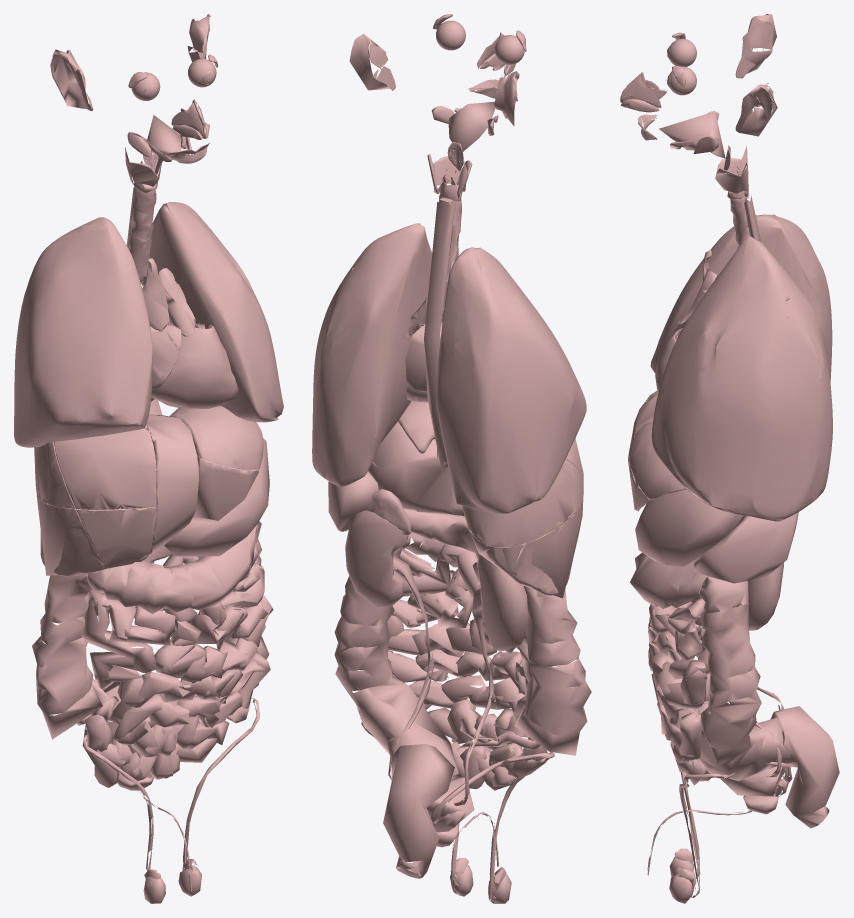
The model's file is cuerpo-organo.glb.
3 renders of one model, left to right at view 1: azimuth 30°, elevation 25°; view 2: azimuth 150°, elevation 25°; view 3: azimuth 270°, elevation 25°, orthographic. The views are drawn at different scales.
Visible parts, largest first — view 1: higado, pulmon_derecho_contorno_aproximado_ilustracion, ileon, pulmon_izquierdo_contorno_aproximado_ilustracion, yeyuno, colon_ascendente, colon_transverso, ventriculos_del_corazon, estomago, timo, oreja, traquea (+9 smaller); view 2: pulmon_derecho_contorno_aproximado_ilustracion, pulmon_izquierdo_contorno_aproximado_ilustracion, ileon, higado, colon_descendente, colon_ascendente, yeyuno, recto, estomago, rinon_izquierdo, esofago, rinon_derecho (+17 smaller); view 3: pulmon_izquierdo_contorno_aproximado_ilustracion, colon_descendente, pulmon_derecho_contorno_aproximado_ilustracion, estomago, yeyuno, recto, bazo, higado, oreja, ileon, colon_transverso, rinon_izquierdo (+12 smaller).
Boxes of the visible parts, x1,y1,x2,y2 form: higado: (34, 406, 263, 576); pulmon_derecho_contorno_aproximado_ilustracion: (14, 217, 152, 447); ileon: (85, 651, 270, 781); pulmon_izquierdo_contorno_aproximado_ilustracion: (144, 202, 283, 422); yeyuno: (79, 546, 273, 683); colon_ascendente: (32, 573, 102, 739); colon_transverso: (87, 525, 257, 614); ventriculos_del_corazon: (151, 319, 238, 408); estomago: (164, 438, 269, 556); timo: (142, 258, 195, 337); oreja: (50, 14, 210, 110); traquea: (128, 184, 156, 282); pulmon_derecho_contorno_aproximado_ilustracion: (436, 247, 586, 513); pulmon_izquierdo_contorno_aproximado_ilustracion: (312, 223, 432, 486); ileon: (388, 641, 547, 790); higado: (397, 401, 583, 598); colon_descendente: (334, 546, 458, 777); colon_ascendente: (514, 586, 591, 755); yeyuno: (387, 549, 527, 657); recto: (383, 744, 454, 878); estomago: (368, 422, 464, 516); rinon_izquierdo: (345, 511, 407, 607); esofago: (424, 198, 454, 470); rinon_derecho: (477, 554, 528, 651); pulmon_izquierdo_contorno_aproximado_ilustracion: (651, 236, 832, 521); colon_descendente: (699, 576, 796, 780); pulmon_derecho_contorno_aproximado_ilustracion: (650, 214, 832, 383); estomago: (635, 489, 742, 566); yeyuno: (648, 583, 707, 708); recto: (770, 706, 839, 828); bazo: (694, 512, 798, 583); higado: (628, 391, 686, 511); oreja: (735, 14, 777, 136); ileon: (651, 614, 710, 785); colon_transverso: (630, 552, 707, 608); rinon_izquierdo: (739, 563, 783, 630).
Size of the model in its own units: 0.2578 by 0.8471 by 0.1992.
